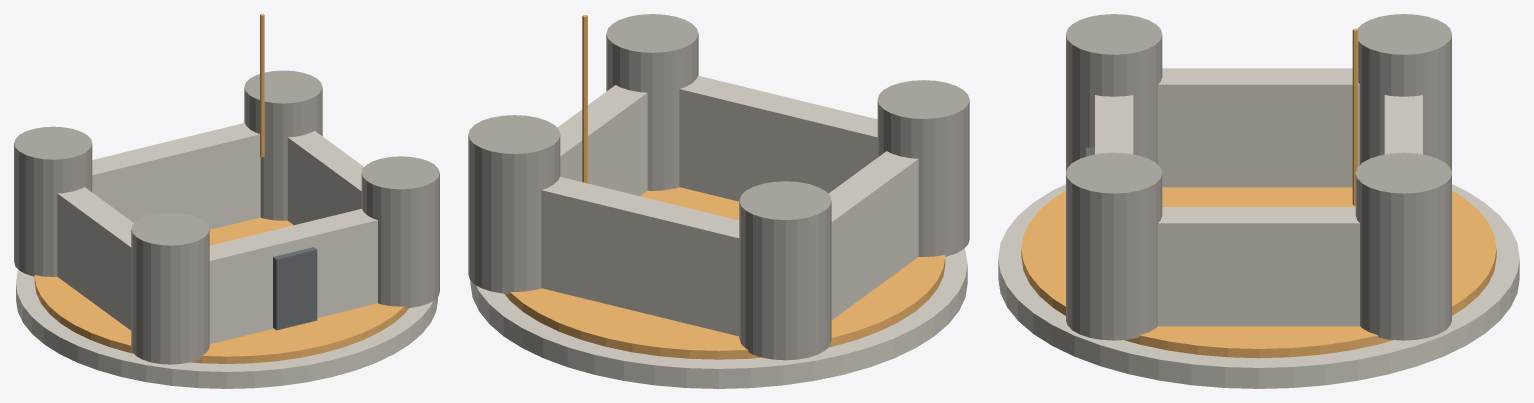
File: fort.glb
3 renders of one model, left to right at view 1: azimuth 30°, elevation 25°; view 2: azimuth 150°, elevation 25°; view 3: azimuth 270°, elevation 25°, orthographic. The views are drawn at different scales.
Parts seen in each view (by area): view 1: Cone.006; view 2: Cone.006; view 3: Cone.006.
Boxes of the visible parts, x1=… form: Cone.006: x1=14, y1=14, x2=439, y2=388; Cone.006: x1=468, y1=14, x2=969, y2=388; Cone.006: x1=998, y1=14, x2=1519, y2=388.
Bounding box in the file's own units: 2.7 × 1.68 × 2.7.
